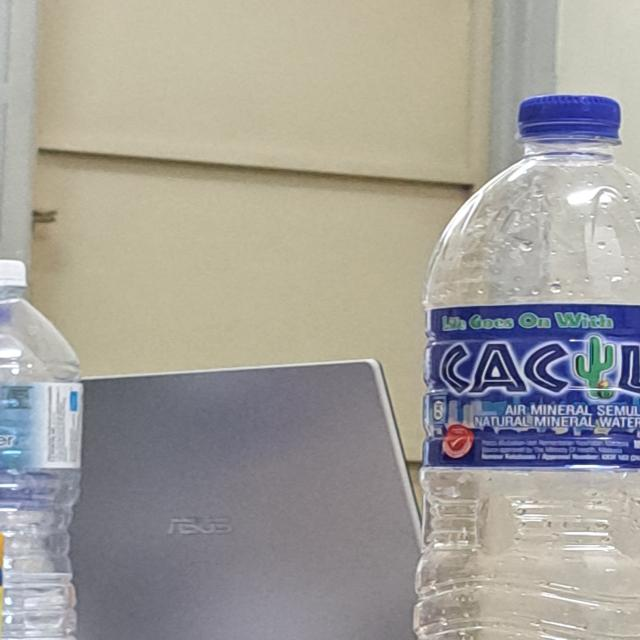plastic bottle: (414, 150, 640, 640), (1, 291, 82, 640)
plastic bottle cap: (518, 95, 622, 141), (0, 248, 32, 290)
